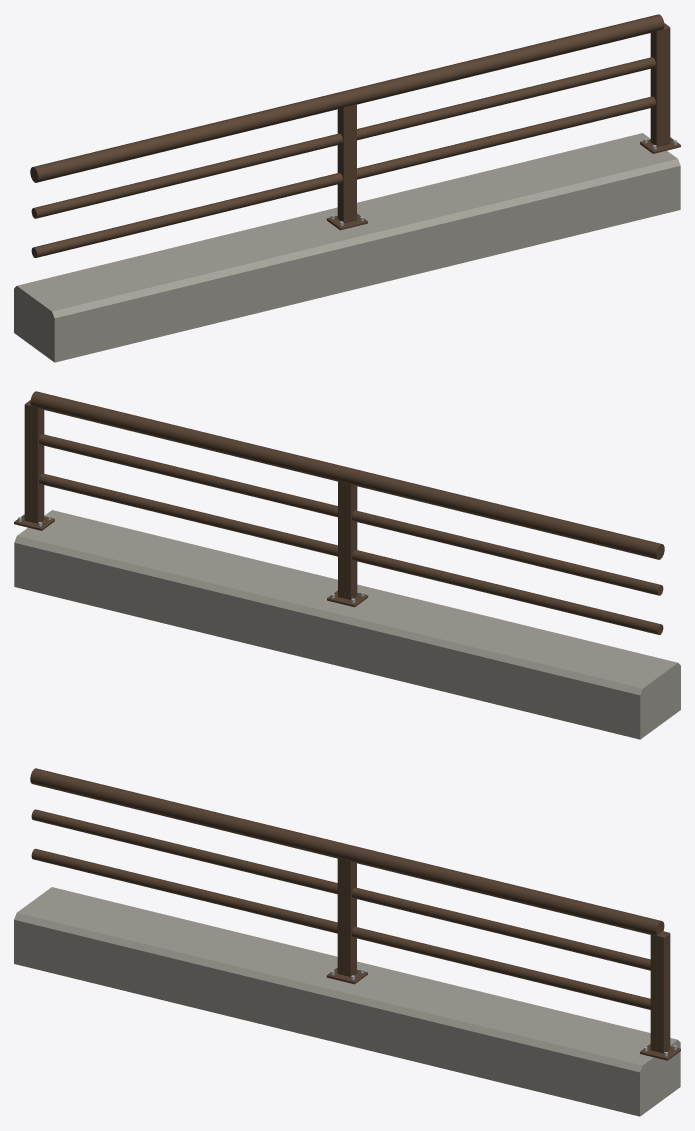
File: small_bridge_railing_4m_brown.fbx
The picture shows the model from 3 angles, top to bottom: view 1: azimuth 30°, elevation 25°; view 2: azimuth 150°, elevation 25°; view 3: azimuth 330°, elevation 25°; orthographic projection.
Visible parts, largest first — view 1: small_bridge_railing_4m_brown; view 2: small_bridge_railing_4m_brown; view 3: small_bridge_railing_4m_brown.
Part boxes in pixels (box(x1,y1,x2,y2)): small_bridge_railing_4m_brown: box(14, 14, 680, 362); small_bridge_railing_4m_brown: box(14, 391, 680, 739); small_bridge_railing_4m_brown: box(14, 768, 680, 1116).
Size of the model in its own units: 4.09 by 1.1 by 0.45.
